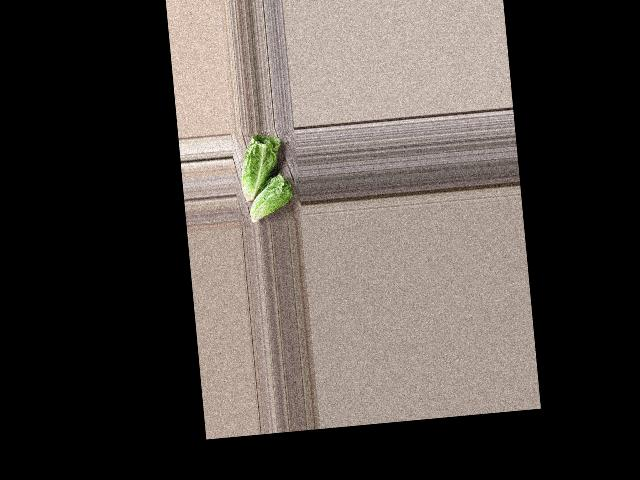lettuce: (244, 171, 299, 226)
